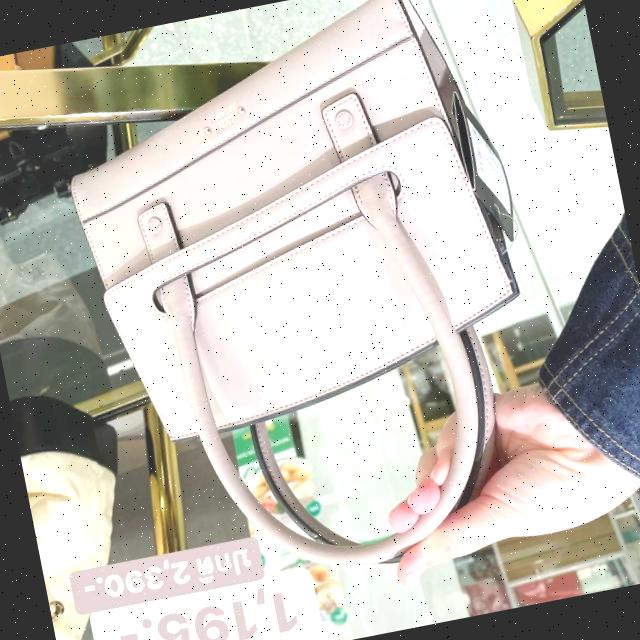Handbag: (36, 0, 553, 466)
